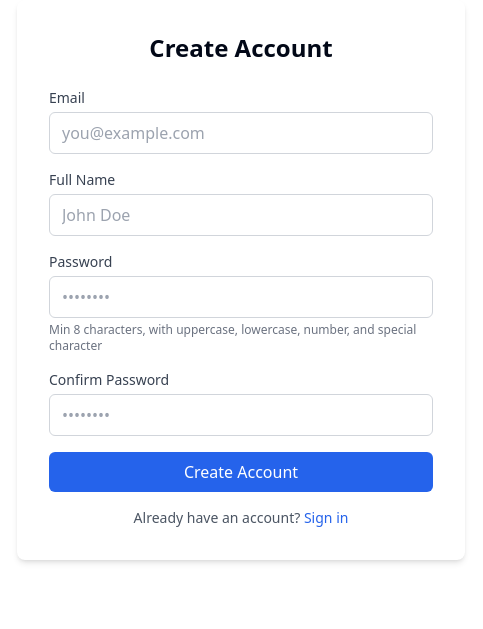
Test case: RegisterForm › validates name is required
Type "test@example.com" into the field labelled "Email" at [241, 133], box [49, 112, 433, 154]
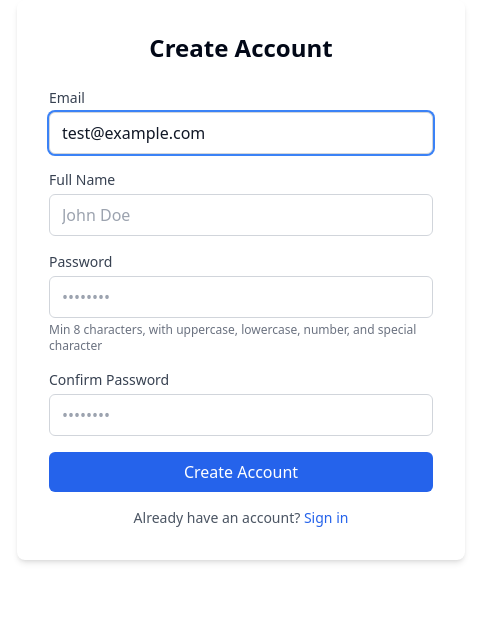
Click the button "Create Account" at [241, 472], box [49, 452, 433, 492]
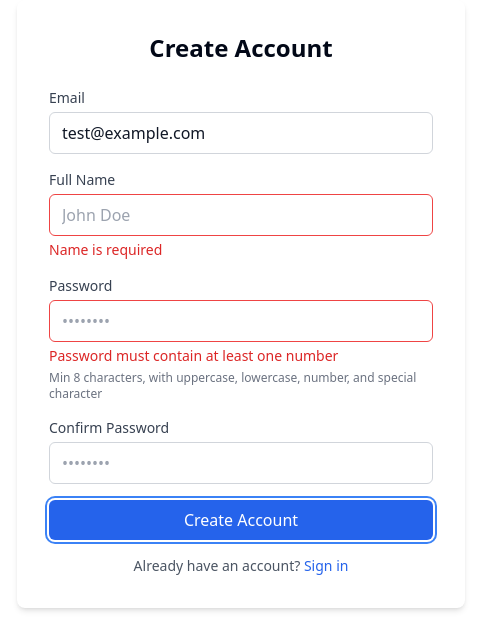
Now the text "Name is required" is shown, box [49, 240, 162, 259]
